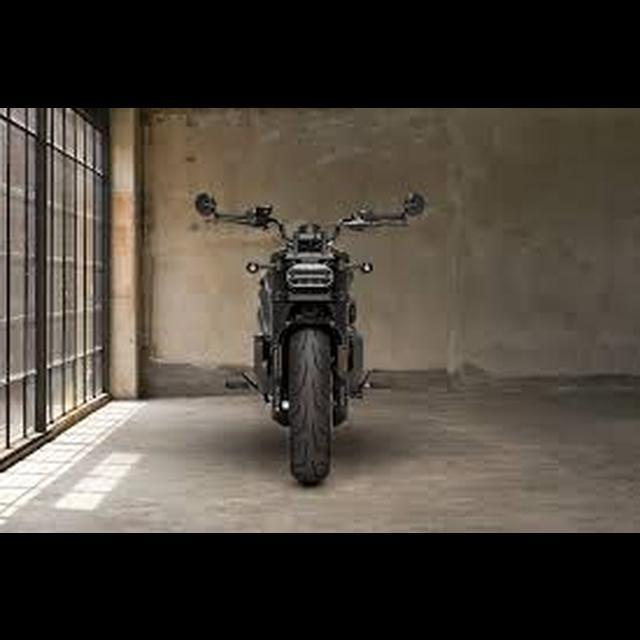motorcycle: (193, 187, 435, 492)
